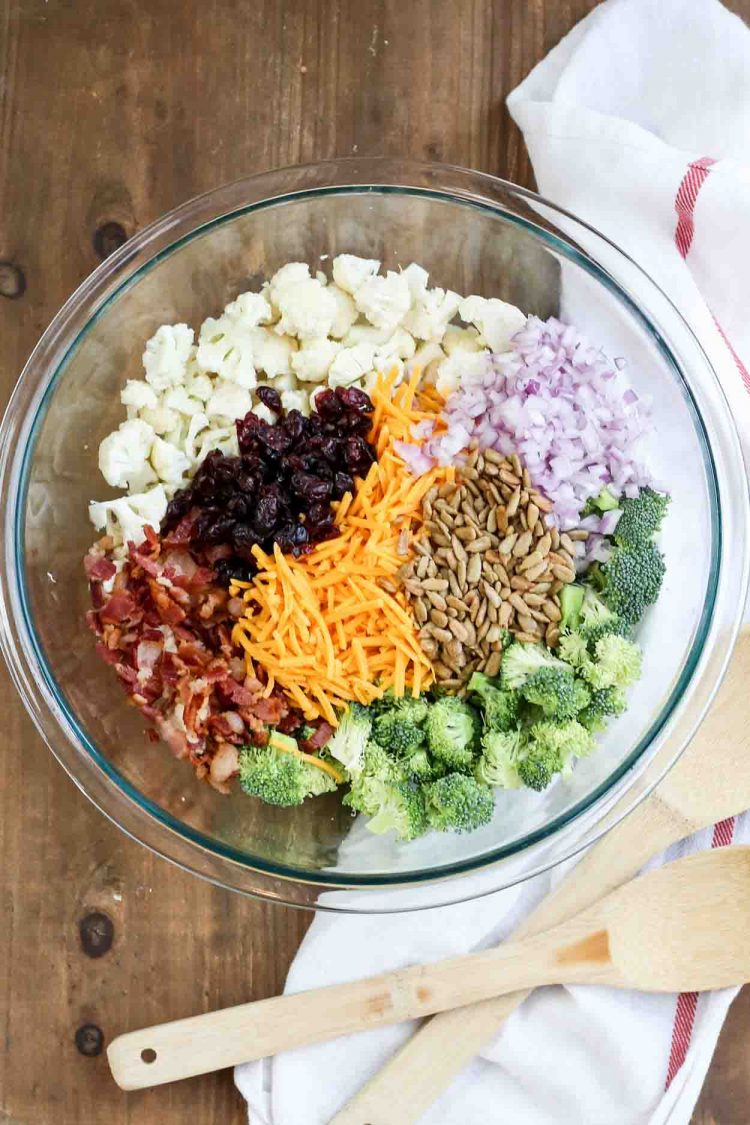bacon: (107, 541, 303, 770)
